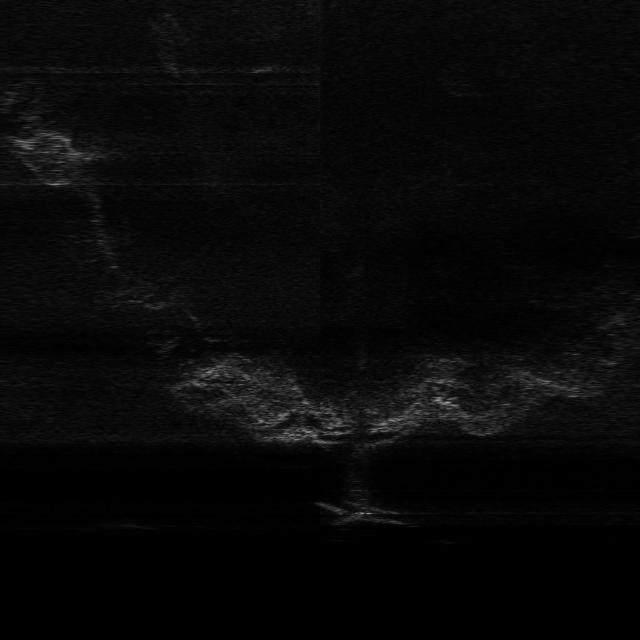plane: (309, 498, 413, 527)
